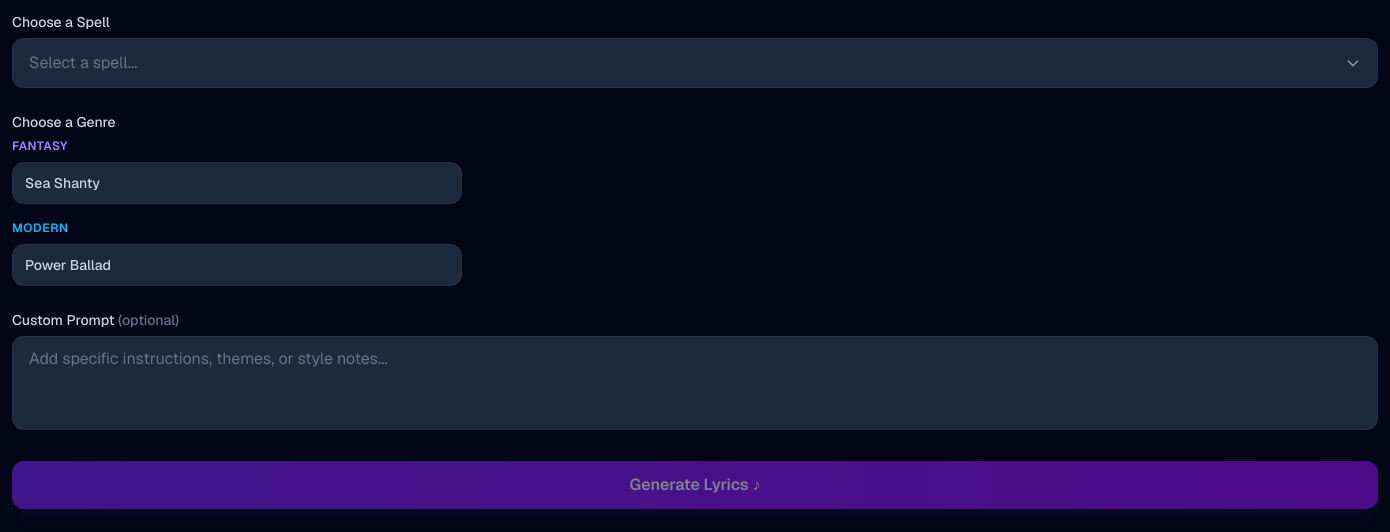
GenerateForm › fills both selectors from the API
Expected: the button "Sea Shanty" is shown, [12,162,462,204]
Expected: the button "Power Ballad" is shown, [12,244,462,286]
Step 1. Click the button "Select a spell..." → (83,62), box [12,38,1378,88]
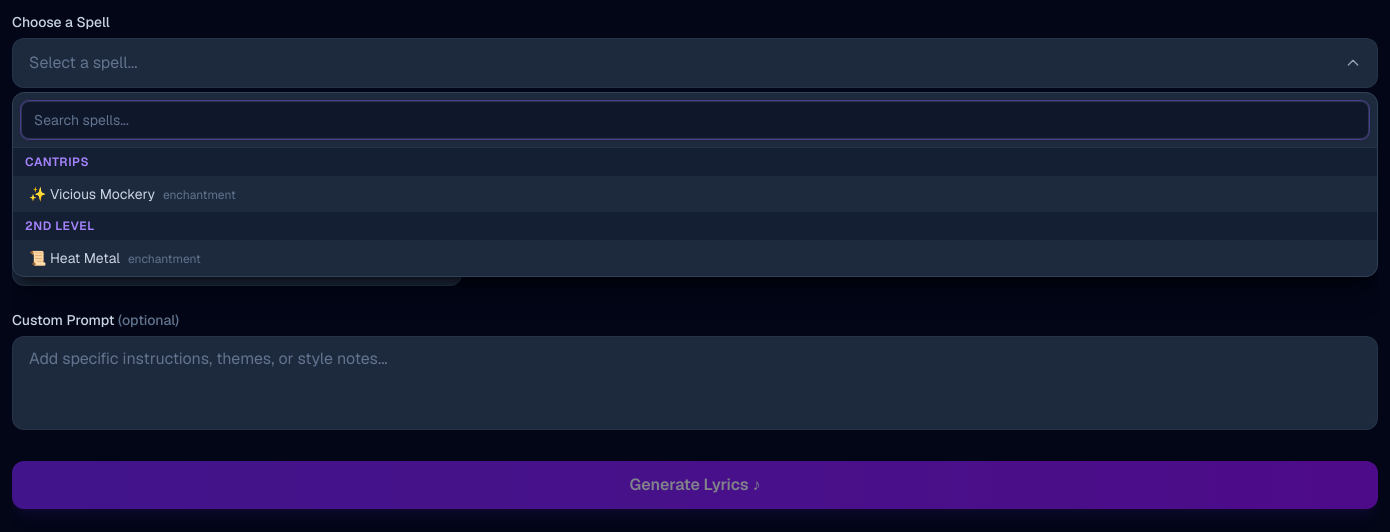
Result: the button "Vicious Mockery" is shown at [13,176,1377,212]
Result: the button "Heat Metal" is shown at [13,240,1377,276]
